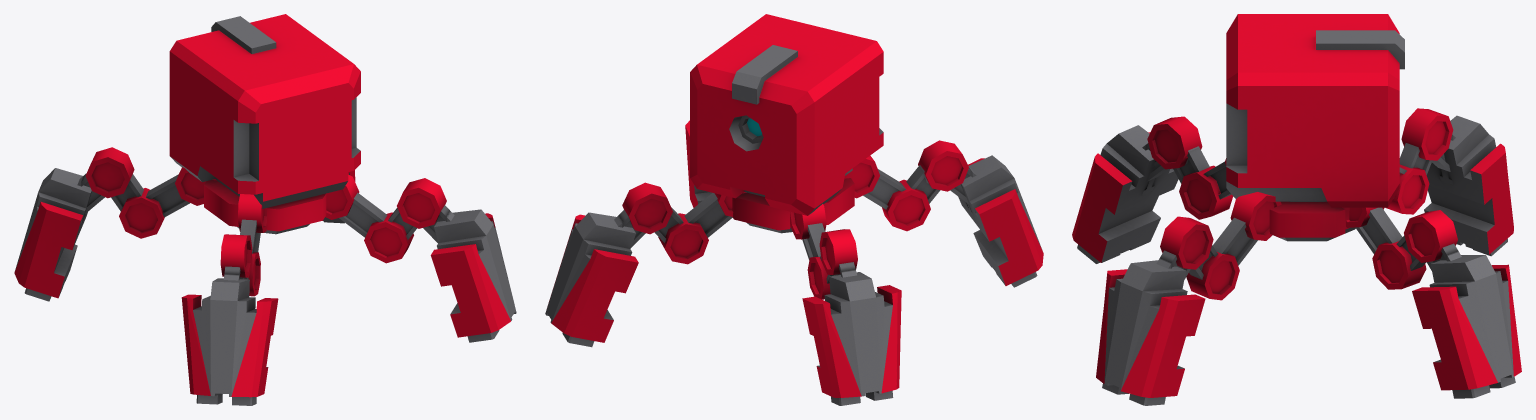
Rendered from Monster1_Idle0.obj.
The picture shows the model from 3 angles, left to right: view 1: azimuth 30°, elevation 25°; view 2: azimuth 150°, elevation 25°; view 3: azimuth 270°, elevation 25°; orthographic projection. The views are drawn at different scales.
Visible parts, largest first — view 1: Box006, Object021, Object017, Object025, Object020, Object028, Object027, Object018, Object019, Object026, Object024, Object022 (+1 smaller); view 2: Box006, Object025, Object013, Object021, Object016, Object024, Object023, Object015, Object022, Object028, Object014, Object026 (+2 smaller); view 3: Box006, Object017, Object013, Object021, Object025, Object018, Object016, Object023, Object020, Object024, Object028, Object015 (+4 smaller).
Part boxes in pixels (box(x1,y1,x2,y2)): Box006: box(169, 14, 360, 234); Object021: box(181, 278, 278, 405); Object017: box(430, 209, 516, 342); Object025: box(14, 168, 91, 301); Object020: box(397, 178, 454, 242); Object028: box(77, 147, 134, 213); Object027: box(111, 174, 164, 238); Object018: box(325, 174, 387, 237); Object019: box(364, 207, 417, 263); Object026: box(146, 167, 216, 217); Object024: box(220, 234, 252, 280); Object022: box(238, 194, 267, 253); Box006: box(690, 14, 883, 233); Object025: box(802, 272, 901, 405); Object013: box(545, 212, 638, 347); Object021: box(958, 155, 1043, 287); Object016: box(614, 182, 672, 247); Object024: box(918, 140, 976, 204); Object023: box(882, 165, 940, 231); Object015: box(654, 207, 708, 264); Object022: box(844, 155, 906, 209); Object028: box(819, 229, 857, 277); Object014: box(684, 192, 746, 237); Object026: box(790, 204, 826, 259); Box006: box(1226, 14, 1404, 241); Object017: box(1096, 260, 1205, 405); Object013: box(1412, 255, 1521, 398); Object021: box(1072, 125, 1178, 263); Object025: box(1424, 115, 1513, 256); Object018: box(1212, 192, 1281, 265); Object016: box(1404, 210, 1461, 270); Object023: box(1173, 146, 1233, 219); Object020: box(1156, 216, 1213, 279); Object024: box(1142, 116, 1202, 181); Object028: box(1401, 108, 1455, 171); Object015: box(1372, 235, 1426, 289).
Size of the model in its own units: 150 by 108 by 153.
